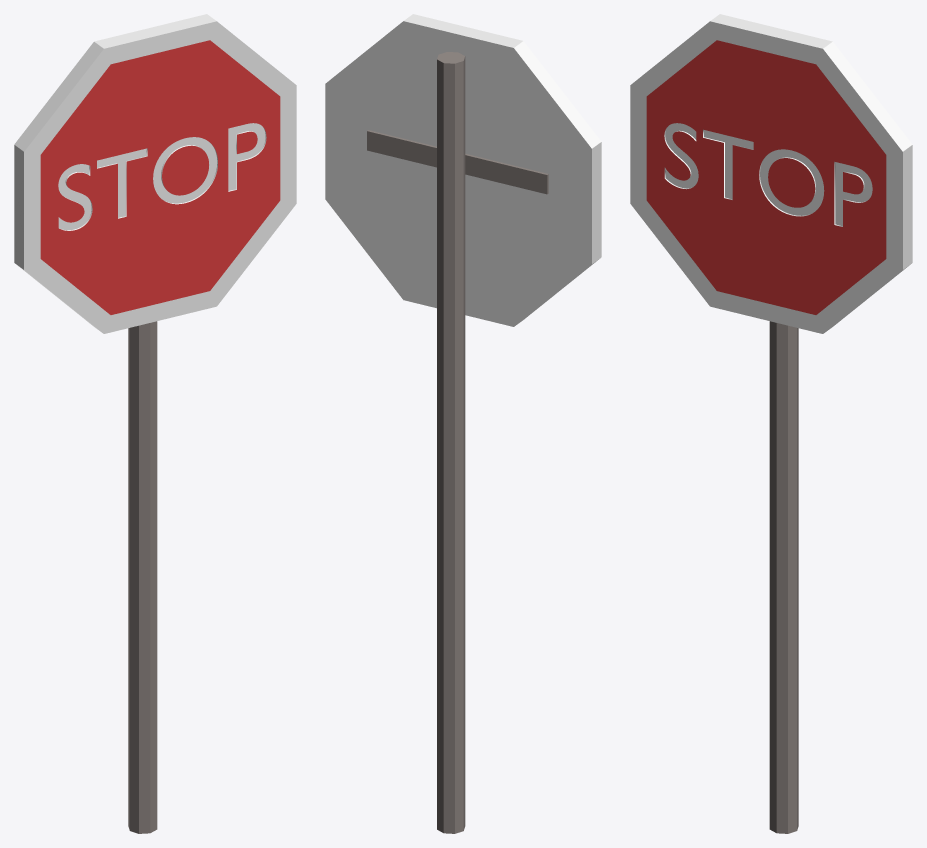
File: RoadSign_02.fbx
3 views of the same model, side by side, from view 1: azimuth 30°, elevation 25°; view 2: azimuth 150°, elevation 25°; view 3: azimuth 330°, elevation 25° (orthographic). The views are drawn at different scales.
Parts seen in each view (by area): view 1: RoadSign_02; view 2: RoadSign_02; view 3: RoadSign_02.
Part boxes in pixels (box(x1,y1,x2,y2)): RoadSign_02: box(14, 14, 296, 833); RoadSign_02: box(325, 14, 601, 833); RoadSign_02: box(630, 14, 912, 833).
Bounding box in the file's own units: 1.28 × 3.6 × 0.2036.
